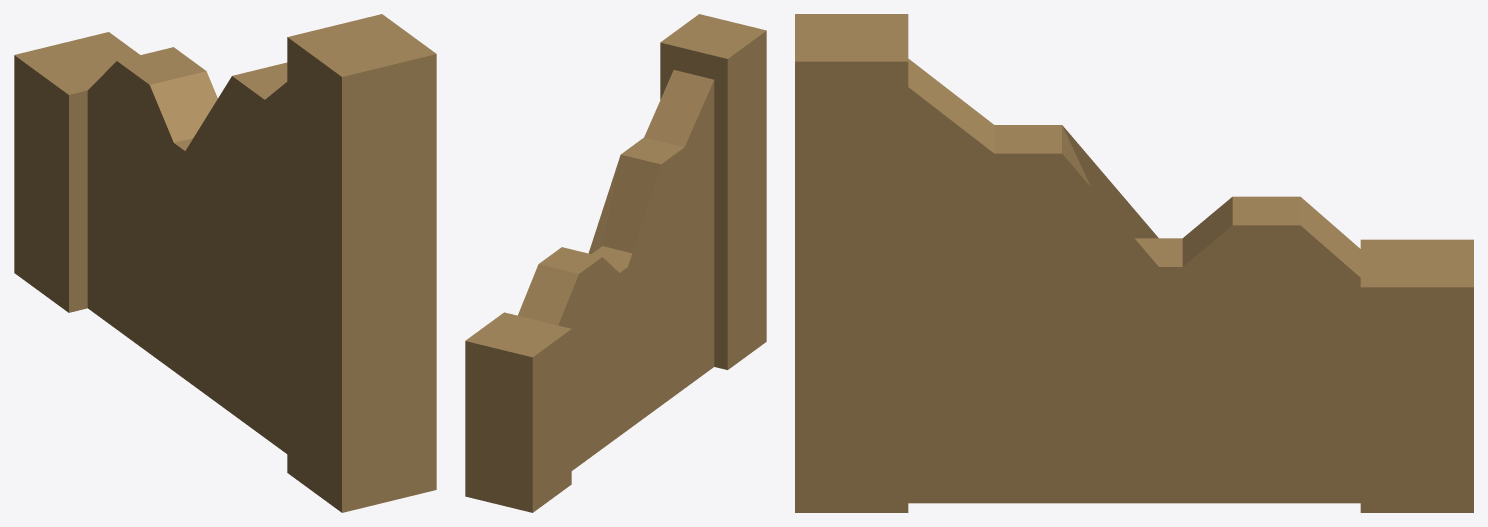
The model's file is wood_broken_wall_01.glb.
The picture shows the model from 3 angles, left to right: view 1: azimuth 30°, elevation 25°; view 2: azimuth 150°, elevation 25°; view 3: azimuth 270°, elevation 25°; orthographic projection. The views are drawn at different scales.
Visible parts, largest first — view 1: Mesh1 Wood_Broken_Wall Model; view 2: Mesh1 Wood_Broken_Wall Model; view 3: Mesh1 Wood_Broken_Wall Model.
Part boxes in pixels (x1=…): Mesh1 Wood_Broken_Wall Model: x1=14, y1=14, x2=436, y2=512; Mesh1 Wood_Broken_Wall Model: x1=465, y1=14, x2=766, y2=512; Mesh1 Wood_Broken_Wall Model: x1=795, y1=14, x2=1473, y2=512.
Bounding box in the file's own units: 0.5 × 2.2 × 3.
